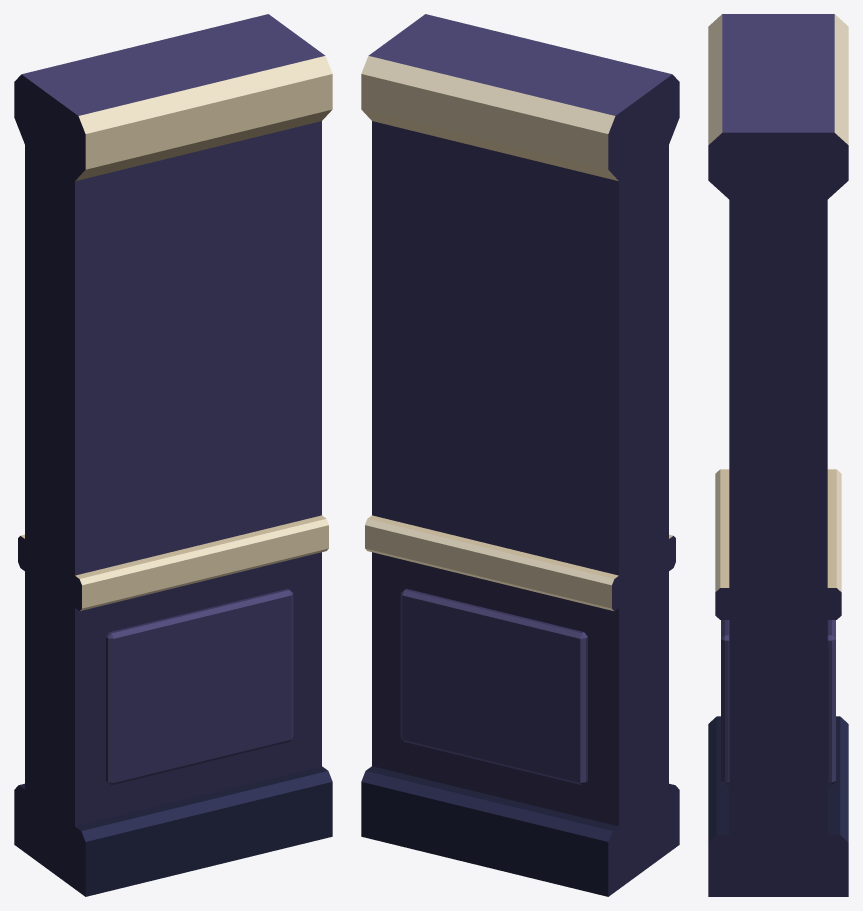
Rendered from Wall_4x12.fbx.
The picture shows the model from 3 angles, left to right: view 1: azimuth 30°, elevation 25°; view 2: azimuth 150°, elevation 25°; view 3: azimuth 270°, elevation 25°; orthographic projection.
Visible parts, largest first — view 1: Wall_4x12; view 2: Wall_4x12; view 3: Wall_4x12.
Part boxes in pixels (box(x1,y1,x2,y2)): Wall_4x12: box(14, 14, 332, 896); Wall_4x12: box(361, 14, 679, 896); Wall_4x12: box(708, 14, 848, 896).
Bounding box in the file's own units: 4 × 12 × 2.
Materials: 1 (1 with a texture image).
